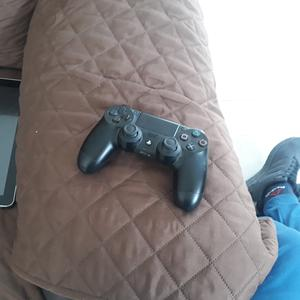controller: (77, 105, 207, 210)
